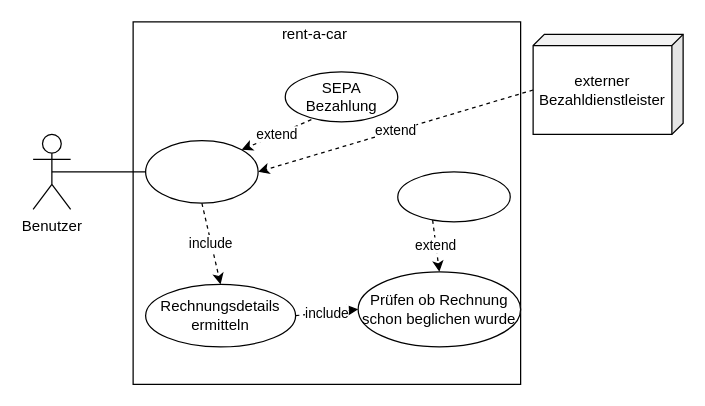
Image size: 705x406. Some labels were removed from this diagram. The shapes that lost their labels are listed below. From the top down, each one's centre as x and y in pixels, then its label:
At point 201,171: "Rechnung begleichen".
At point 453,196: "Fehlermeldung".
